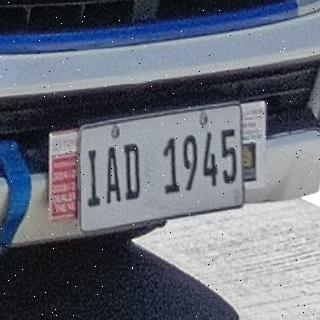license: (80, 105, 244, 233)
